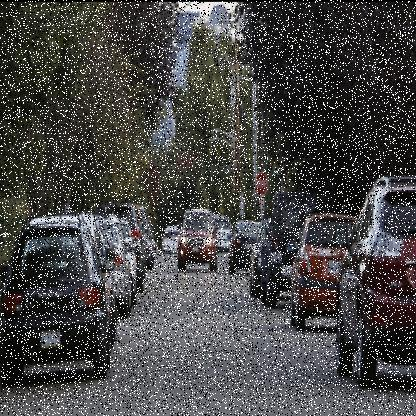licence: (36, 328, 64, 348)
